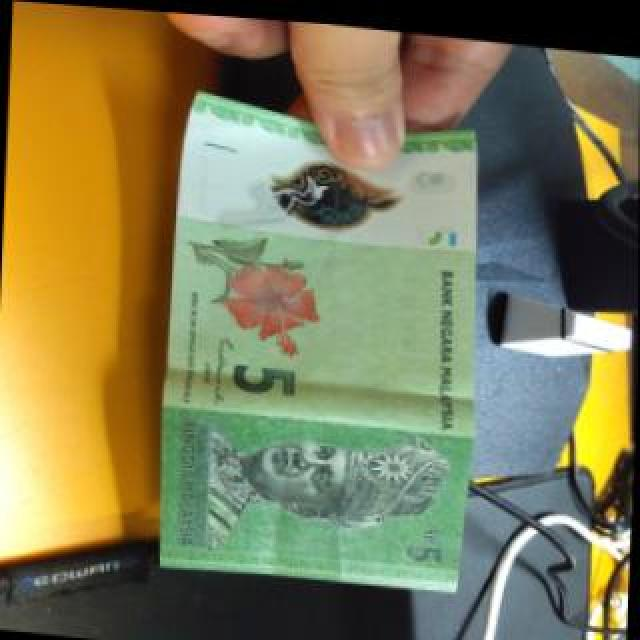5 Ringgit: (148, 84, 485, 593)
